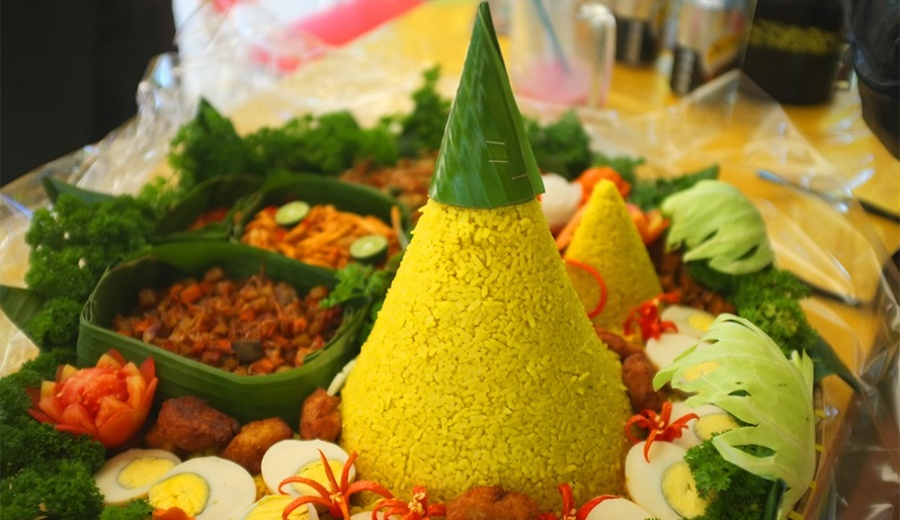tumpeng: (290, 12, 654, 476)
